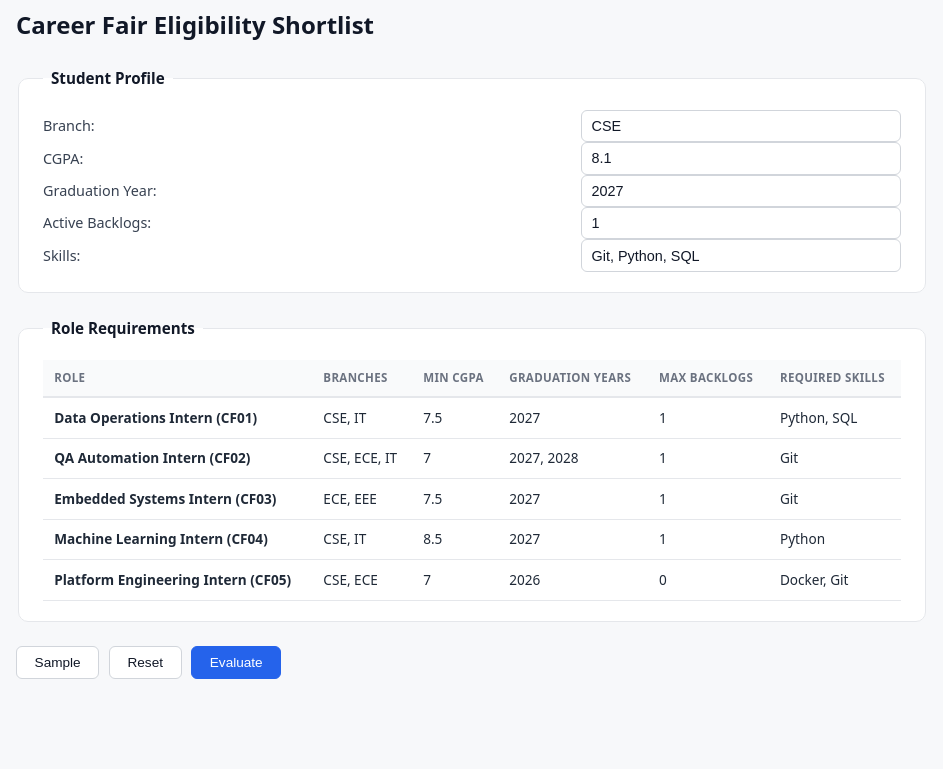
Test: App integration › evaluates the built-in profile as 2 eligible, 3 ineligible
The image size is (943, 769).
Click the button "Evaluate": x=236, y=662 [191,646,281,679]
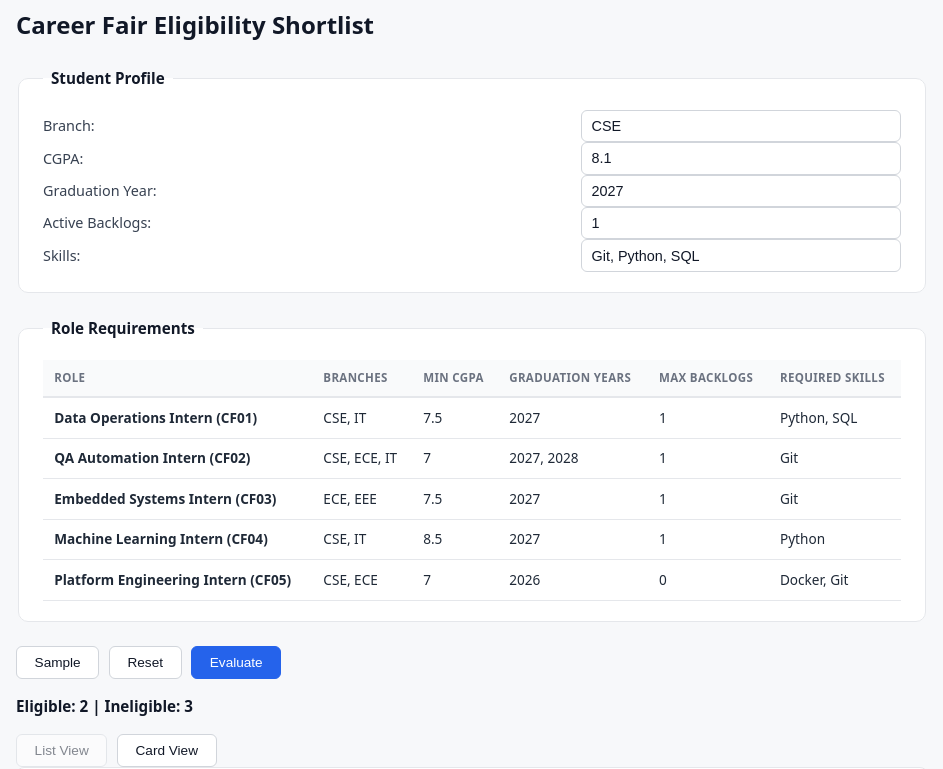
Expected: the text "Eligible: 2 | Ineligible: 3" is shown, [16,696,193,716]
